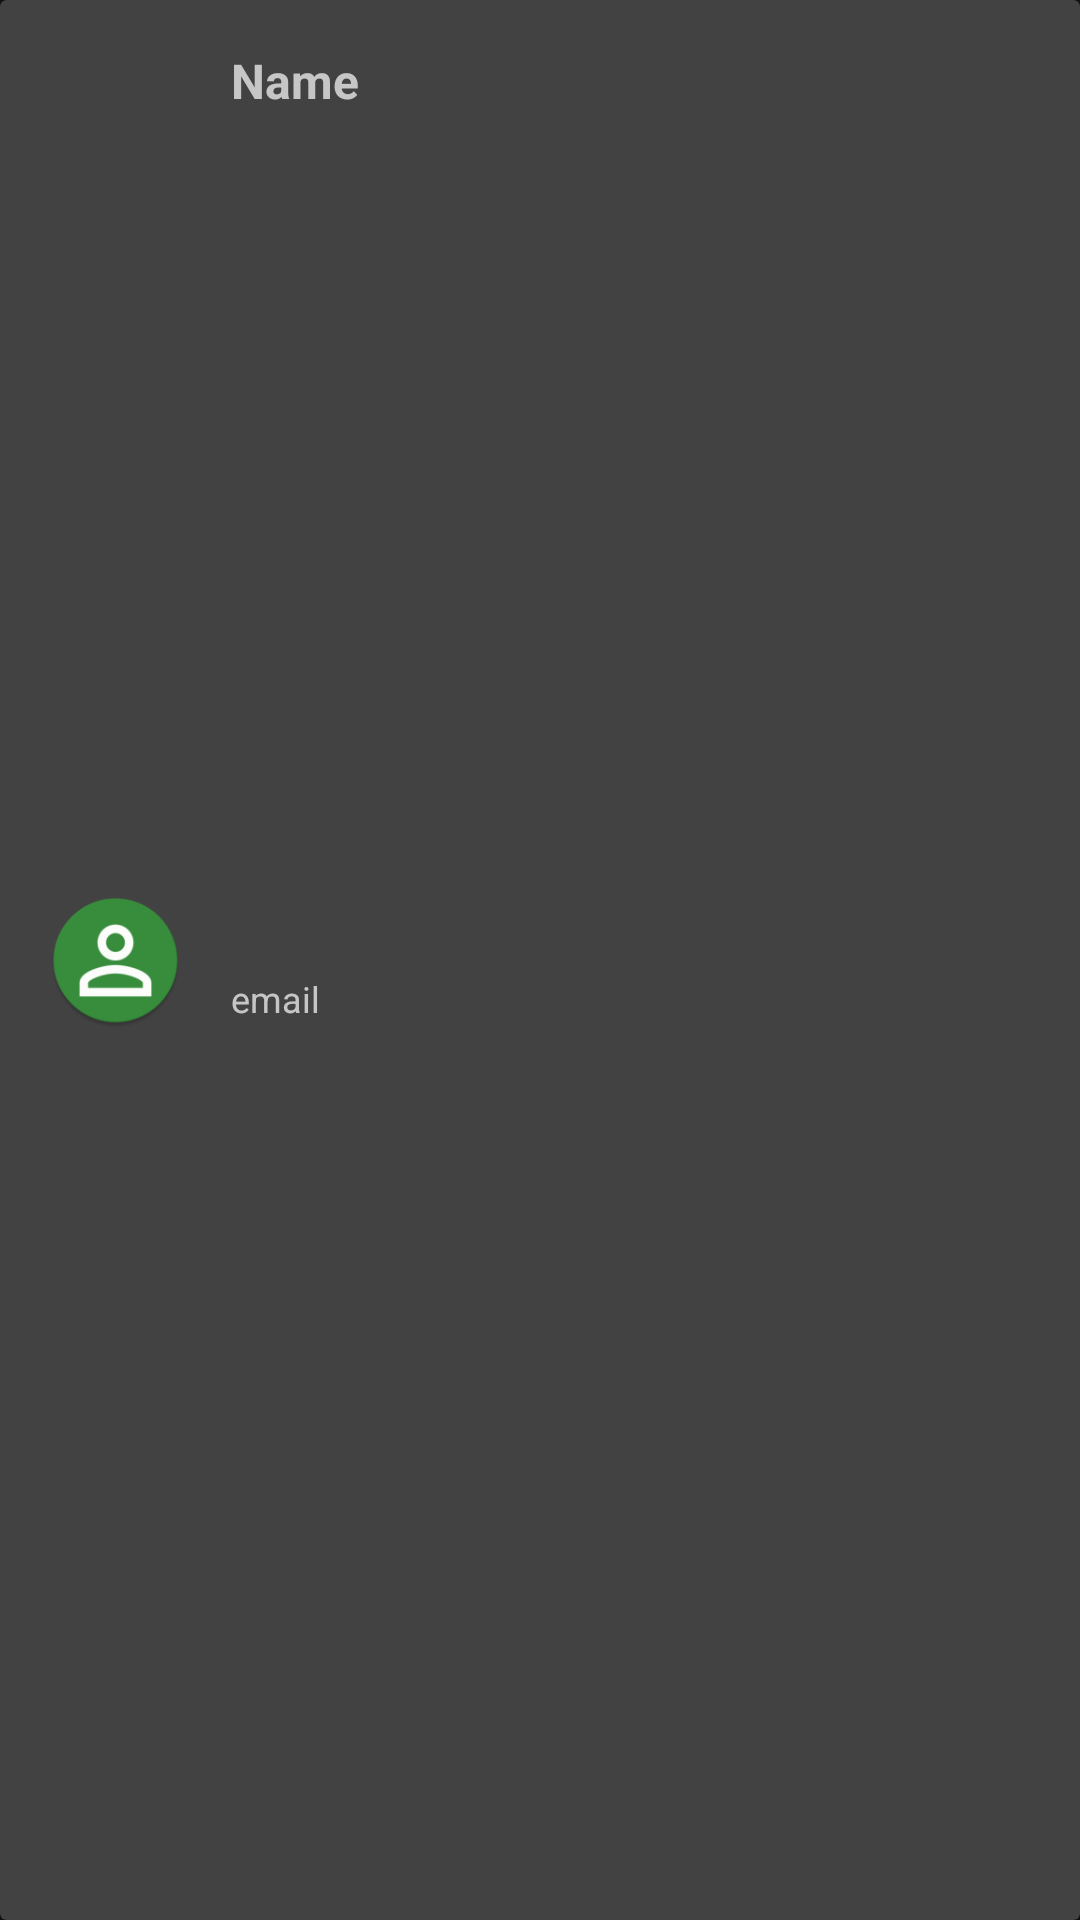

Icon click points for this 1080px×1920px phone screenshot, format point (x, y):
person round: point (115, 960)
